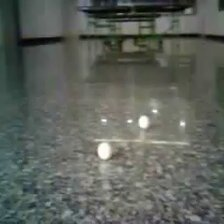w: (97, 142, 113, 160), (136, 115, 150, 129)
